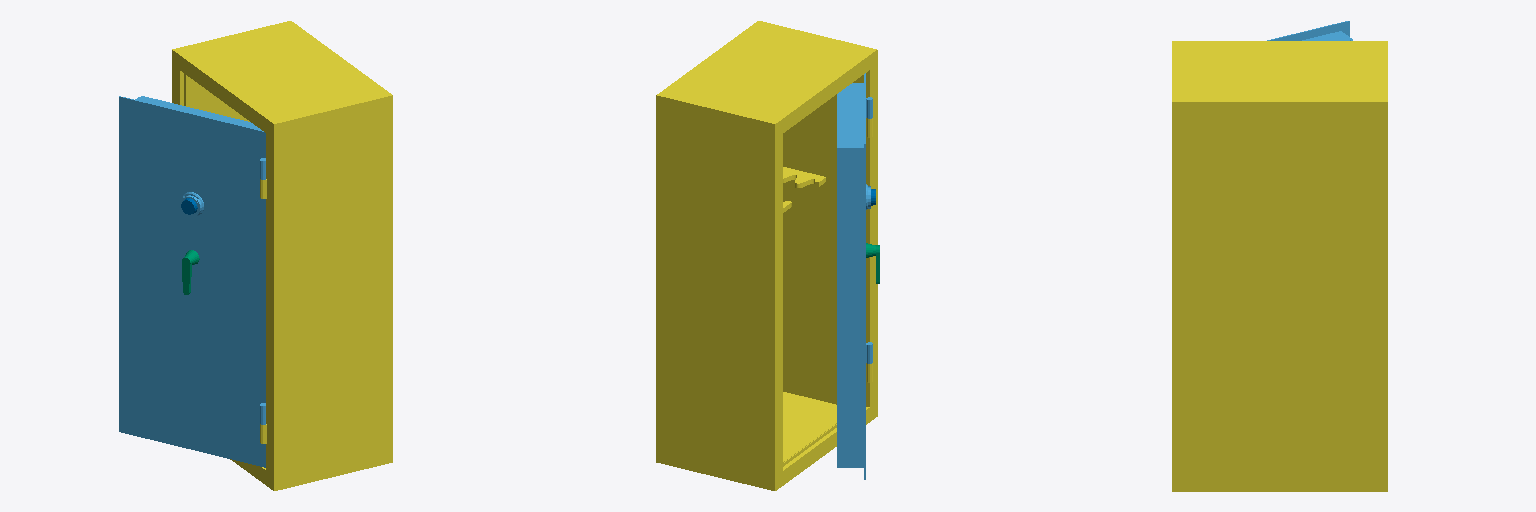
robot.urdf — partnet_a805e6a1651b06aaeb69804478f9c547:
<?xml version="1.0" ?>
<robot name="partnet_a805e6a1651b06aaeb69804478f9c547">
	<link name="base"/>
	<link name="link_0">
		<visual name="door-1">
			<origin xyz="-0.36400595678338493 -0.648501 -0.212485359986955"/>
			<geometry>
				<mesh filename="textured_objs/original-23.obj"/>
			</geometry>
		</visual>
		<visual name="door-1">
			<origin xyz="-0.36400595678338493 -0.648501 -0.212485359986955"/>
			<geometry>
				<mesh filename="textured_objs/original-22.obj"/>
			</geometry>
		</visual>
		<visual name="door-1">
			<origin xyz="-0.36400595678338493 -0.648501 -0.212485359986955"/>
			<geometry>
				<mesh filename="textured_objs/original-45.obj"/>
			</geometry>
		</visual>
		<visual name="door-1">
			<origin xyz="-0.36400595678338493 -0.648501 -0.212485359986955"/>
			<geometry>
				<mesh filename="textured_objs/original-43.obj"/>
			</geometry>
		</visual>
		<visual name="door-1">
			<origin xyz="-0.36400595678338493 -0.648501 -0.212485359986955"/>
			<geometry>
				<mesh filename="textured_objs/original-44.obj"/>
			</geometry>
		</visual>
		<visual name="door-1">
			<origin xyz="-0.36400595678338493 -0.648501 -0.212485359986955"/>
			<geometry>
				<mesh filename="textured_objs/original-37.obj"/>
			</geometry>
		</visual>
		<visual name="door-1">
			<origin xyz="-0.36400595678338493 -0.648501 -0.212485359986955"/>
			<geometry>
				<mesh filename="textured_objs/original-38.obj"/>
			</geometry>
		</visual>
		<visual name="door-1">
			<origin xyz="-0.36400595678338493 -0.648501 -0.212485359986955"/>
			<geometry>
				<mesh filename="textured_objs/original-11.obj"/>
			</geometry>
		</visual>
		<visual name="door-1">
			<origin xyz="-0.36400595678338493 -0.648501 -0.212485359986955"/>
			<geometry>
				<mesh filename="textured_objs/original-9.obj"/>
			</geometry>
		</visual>
		<collision>
			<origin xyz="-0.36400595678338493 -0.648501 -0.212485359986955"/>
			<geometry>
				<mesh filename="textured_objs/original-23.obj"/>
			</geometry>
		</collision>
		<collision>
			<origin xyz="-0.36400595678338493 -0.648501 -0.212485359986955"/>
			<geometry>
				<mesh filename="textured_objs/original-22.obj"/>
			</geometry>
		</collision>
		<collision>
			<origin xyz="-0.36400595678338493 -0.648501 -0.212485359986955"/>
			<geometry>
				<mesh filename="textured_objs/original-45.obj"/>
			</geometry>
		</collision>
		<collision>
			<origin xyz="-0.36400595678338493 -0.648501 -0.212485359986955"/>
			<geometry>
				<mesh filename="textured_objs/original-43.obj"/>
			</geometry>
		</collision>
		<collision>
			<origin xyz="-0.36400595678338493 -0.648501 -0.212485359986955"/>
			<geometry>
				<mesh filename="textured_objs/original-44.obj"/>
			</geometry>
		</collision>
		<collision>
			<origin xyz="-0.36400595678338493 -0.648501 -0.212485359986955"/>
			<geometry>
				<mesh filename="textured_objs/original-37.obj"/>
			</geometry>
		</collision>
		<collision>
			<origin xyz="-0.36400595678338493 -0.648501 -0.212485359986955"/>
			<geometry>
				<mesh filename="textured_objs/original-38.obj"/>
			</geometry>
		</collision>
		<collision>
			<origin xyz="-0.36400595678338493 -0.648501 -0.212485359986955"/>
			<geometry>
				<mesh filename="textured_objs/original-11.obj"/>
			</geometry>
		</collision>
		<collision>
			<origin xyz="-0.36400595678338493 -0.648501 -0.212485359986955"/>
			<geometry>
				<mesh filename="textured_objs/original-9.obj"/>
			</geometry>
		</collision>
	</link>
	<joint name="joint_0" type="revolute">
		<origin xyz="0.36400595678338493 0.648501 0.212485359986955"/>
		<axis xyz="0 1 0"/>
		<child link="link_0"/>
		<parent link="link_2"/>
		<limit lower="-0.5152211951887261" upper="2.5949555318651694"/>
	</joint>
	<link name="link_1">
		<visual name="handle-5">
			<origin xyz="-0.08313694413442765 -0.11743864096306886 -0.4204186448753276"/>
			<geometry>
				<mesh filename="textured_objs/original-3.obj"/>
			</geometry>
		</visual>
		<visual name="handle-5">
			<origin xyz="-0.08313694413442765 -0.11743864096306886 -0.4204186448753276"/>
			<geometry>
				<mesh filename="textured_objs/original-4.obj"/>
			</geometry>
		</visual>
		<collision>
			<origin xyz="-0.08313694413442765 -0.11743864096306886 -0.4204186448753276"/>
			<geometry>
				<mesh filename="textured_objs/original-3.obj"/>
			</geometry>
		</collision>
		<collision>
			<origin xyz="-0.08313694413442765 -0.11743864096306886 -0.4204186448753276"/>
			<geometry>
				<mesh filename="textured_objs/original-4.obj"/>
			</geometry>
		</collision>
	</link>
	<joint name="joint_1" type="fixed">
		<origin xyz="-0.28086901264895725 -0.5310623590369311 0.2079332848883726"/>
		<axis xyz="0.4999947735612932 2.942941588187545e-05 0.8660284207491696"/>
		<child link="link_1"/>
		<parent link="link_0"/>
	</joint>
	<link name="link_2">
		<visual name="base_body-9">
			<origin xyz="0 0 0"/>
			<geometry>
				<mesh filename="textured_objs/original-29.obj"/>
			</geometry>
		</visual>
		<visual name="base_body-9">
			<origin xyz="0 0 0"/>
			<geometry>
				<mesh filename="textured_objs/original-36.obj"/>
			</geometry>
		</visual>
		<visual name="base_body-9">
			<origin xyz="0 0 0"/>
			<geometry>
				<mesh filename="textured_objs/original-28.obj"/>
			</geometry>
		</visual>
		<visual name="base_body-9">
			<origin xyz="0 0 0"/>
			<geometry>
				<mesh filename="textured_objs/original-33.obj"/>
			</geometry>
		</visual>
		<visual name="base_body-9">
			<origin xyz="0 0 0"/>
			<geometry>
				<mesh filename="textured_objs/original-35.obj"/>
			</geometry>
		</visual>
		<visual name="base_body-9">
			<origin xyz="0 0 0"/>
			<geometry>
				<mesh filename="textured_objs/original-49.obj"/>
			</geometry>
		</visual>
		<visual name="base_body-9">
			<origin xyz="0 0 0"/>
			<geometry>
				<mesh filename="textured_objs/original-50.obj"/>
			</geometry>
		</visual>
		<visual name="base_body-9">
			<origin xyz="0 0 0"/>
			<geometry>
				<mesh filename="textured_objs/original-31.obj"/>
			</geometry>
		</visual>
		<visual name="base_body-9">
			<origin xyz="0 0 0"/>
			<geometry>
				<mesh filename="textured_objs/original-48.obj"/>
			</geometry>
		</visual>
		<visual name="base_body-9">
			<origin xyz="0 0 0"/>
			<geometry>
				<mesh filename="textured_objs/original-34.obj"/>
			</geometry>
		</visual>
		<visual name="base_body-9">
			<origin xyz="0 0 0"/>
			<geometry>
				<mesh filename="textured_objs/original-25.obj"/>
			</geometry>
		</visual>
		<visual name="base_body-9">
			<origin xyz="0 0 0"/>
			<geometry>
				<mesh filename="textured_objs/original-32.obj"/>
			</geometry>
		</visual>
		<visual name="base_body-9">
			<origin xyz="0 0 0"/>
			<geometry>
				<mesh filename="textured_objs/original-47.obj"/>
			</geometry>
		</visual>
		<visual name="base_body-9">
			<origin xyz="0 0 0"/>
			<geometry>
				<mesh filename="textured_objs/original-46.obj"/>
			</geometry>
		</visual>
		<collision>
			<origin xyz="0 0 0"/>
			<geometry>
				<mesh filename="textured_objs/original-29.obj"/>
			</geometry>
		</collision>
		<collision>
			<origin xyz="0 0 0"/>
			<geometry>
				<mesh filename="textured_objs/original-36.obj"/>
			</geometry>
		</collision>
		<collision>
			<origin xyz="0 0 0"/>
			<geometry>
				<mesh filename="textured_objs/original-28.obj"/>
			</geometry>
		</collision>
		<collision>
			<origin xyz="0 0 0"/>
			<geometry>
				<mesh filename="textured_objs/original-33.obj"/>
			</geometry>
		</collision>
		<collision>
			<origin xyz="0 0 0"/>
			<geometry>
				<mesh filename="textured_objs/original-35.obj"/>
			</geometry>
		</collision>
		<collision>
			<origin xyz="0 0 0"/>
			<geometry>
				<mesh filename="textured_objs/original-49.obj"/>
			</geometry>
		</collision>
		<collision>
			<origin xyz="0 0 0"/>
			<geometry>
				<mesh filename="textured_objs/original-50.obj"/>
			</geometry>
		</collision>
		<collision>
			<origin xyz="0 0 0"/>
			<geometry>
				<mesh filename="textured_objs/original-31.obj"/>
			</geometry>
		</collision>
		<collision>
			<origin xyz="0 0 0"/>
			<geometry>
				<mesh filename="textured_objs/original-48.obj"/>
			</geometry>
		</collision>
		<collision>
			<origin xyz="0 0 0"/>
			<geometry>
				<mesh filename="textured_objs/original-34.obj"/>
			</geometry>
		</collision>
		<collision>
			<origin xyz="0 0 0"/>
			<geometry>
				<mesh filename="textured_objs/original-25.obj"/>
			</geometry>
		</collision>
		<collision>
			<origin xyz="0 0 0"/>
			<geometry>
				<mesh filename="textured_objs/original-32.obj"/>
			</geometry>
		</collision>
		<collision>
			<origin xyz="0 0 0"/>
			<geometry>
				<mesh filename="textured_objs/original-47.obj"/>
			</geometry>
		</collision>
		<collision>
			<origin xyz="0 0 0"/>
			<geometry>
				<mesh filename="textured_objs/original-46.obj"/>
			</geometry>
		</collision>
	</link>
	<joint name="joint_2" type="fixed">
		<origin rpy="1.570796326794897 0 -1.570796326794897" xyz="0 0 0"/>
		<child link="link_2"/>
		<parent link="base"/>
	</joint>
	<link name="link_3">
		<visual name="switch-6">
			<origin xyz="0.11887426709008031 -0.3592191186084054 -0.06864868929159593"/>
			<geometry>
				<mesh filename="textured_objs/original-42.obj"/>
			</geometry>
		</visual>
		<visual name="switch-6">
			<origin xyz="0.11887426709008031 -0.3592191186084054 -0.06864868929159593"/>
			<geometry>
				<mesh filename="textured_objs/original-41.obj"/>
			</geometry>
		</visual>
		<visual name="outlier-7">
			<origin xyz="0.11887426709008031 -0.3592191186084054 -0.06864868929159593"/>
			<geometry>
				<mesh filename="textured_objs/original-20.obj"/>
			</geometry>
		</visual>
		<visual name="outlier-8">
			<origin xyz="0.11887426709008031 -0.3592191186084054 -0.06864868929159593"/>
			<geometry>
				<mesh filename="textured_objs/original-40.obj"/>
			</geometry>
		</visual>
		<visual name="outlier-8">
			<origin xyz="0.11887426709008031 -0.3592191186084054 -0.06864868929159593"/>
			<geometry>
				<mesh filename="textured_objs/original-12.obj"/>
			</geometry>
		</visual>
		<visual name="outlier-8">
			<origin xyz="0.11887426709008031 -0.3592191186084054 -0.06864868929159593"/>
			<geometry>
				<mesh filename="textured_objs/original-13.obj"/>
			</geometry>
		</visual>
		<visual name="outlier-8">
			<origin xyz="0.11887426709008031 -0.3592191186084054 -0.06864868929159593"/>
			<geometry>
				<mesh filename="textured_objs/original-19.obj"/>
			</geometry>
		</visual>
		<visual name="outlier-8">
			<origin xyz="0.11887426709008031 -0.3592191186084054 -0.06864868929159593"/>
			<geometry>
				<mesh filename="textured_objs/original-16.obj"/>
			</geometry>
		</visual>
		<visual name="outlier-8">
			<origin xyz="0.11887426709008031 -0.3592191186084054 -0.06864868929159593"/>
			<geometry>
				<mesh filename="textured_objs/original-17.obj"/>
			</geometry>
		</visual>
		<visual name="outlier-8">
			<origin xyz="0.11887426709008031 -0.3592191186084054 -0.06864868929159593"/>
			<geometry>
				<mesh filename="textured_objs/original-15.obj"/>
			</geometry>
		</visual>
		<visual name="outlier-8">
			<origin xyz="0.11887426709008031 -0.3592191186084054 -0.06864868929159593"/>
			<geometry>
				<mesh filename="textured_objs/original-14.obj"/>
			</geometry>
		</visual>
		<visual name="outlier-8">
			<origin xyz="0.11887426709008031 -0.3592191186084054 -0.06864868929159593"/>
			<geometry>
				<mesh filename="textured_objs/original-18.obj"/>
			</geometry>
		</visual>
		<visual name="outlier-8">
			<origin xyz="0.11887426709008031 -0.3592191186084054 -0.06864868929159593"/>
			<geometry>
				<mesh filename="textured_objs/original-39.obj"/>
			</geometry>
		</visual>
		<collision>
			<origin xyz="0.11887426709008031 -0.3592191186084054 -0.06864868929159593"/>
			<geometry>
				<mesh filename="textured_objs/original-42.obj"/>
			</geometry>
		</collision>
		<collision>
			<origin xyz="0.11887426709008031 -0.3592191186084054 -0.06864868929159593"/>
			<geometry>
				<mesh filename="textured_objs/original-41.obj"/>
			</geometry>
		</collision>
		<collision>
			<origin xyz="0.11887426709008031 -0.3592191186084054 -0.06864868929159593"/>
			<geometry>
				<mesh filename="textured_objs/original-20.obj"/>
			</geometry>
		</collision>
		<collision>
			<origin xyz="0.11887426709008031 -0.3592191186084054 -0.06864868929159593"/>
			<geometry>
				<mesh filename="textured_objs/original-40.obj"/>
			</geometry>
		</collision>
		<collision>
			<origin xyz="0.11887426709008031 -0.3592191186084054 -0.06864868929159593"/>
			<geometry>
				<mesh filename="textured_objs/original-12.obj"/>
			</geometry>
		</collision>
		<collision>
			<origin xyz="0.11887426709008031 -0.3592191186084054 -0.06864868929159593"/>
			<geometry>
				<mesh filename="textured_objs/original-13.obj"/>
			</geometry>
		</collision>
		<collision>
			<origin xyz="0.11887426709008031 -0.3592191186084054 -0.06864868929159593"/>
			<geometry>
				<mesh filename="textured_objs/original-19.obj"/>
			</geometry>
		</collision>
		<collision>
			<origin xyz="0.11887426709008031 -0.3592191186084054 -0.06864868929159593"/>
			<geometry>
				<mesh filename="textured_objs/original-16.obj"/>
			</geometry>
		</collision>
		<collision>
			<origin xyz="0.11887426709008031 -0.3592191186084054 -0.06864868929159593"/>
			<geometry>
				<mesh filename="textured_objs/original-17.obj"/>
			</geometry>
		</collision>
		<collision>
			<origin xyz="0.11887426709008031 -0.3592191186084054 -0.06864868929159593"/>
			<geometry>
				<mesh filename="textured_objs/original-15.obj"/>
			</geometry>
		</collision>
		<collision>
			<origin xyz="0.11887426709008031 -0.3592191186084054 -0.06864868929159593"/>
			<geometry>
				<mesh filename="textured_objs/original-14.obj"/>
			</geometry>
		</collision>
		<collision>
			<origin xyz="0.11887426709008031 -0.3592191186084054 -0.06864868929159593"/>
			<geometry>
				<mesh filename="textured_objs/original-18.obj"/>
			</geometry>
		</collision>
		<collision>
			<origin xyz="0.11887426709008031 -0.3592191186084054 -0.06864868929159593"/>
			<geometry>
				<mesh filename="textured_objs/original-39.obj"/>
			</geometry>
		</collision>
	</link>
	<joint name="joint_3" type="fixed">
		<origin xyz="-0.48288022387346524 -0.2892818813915946 -0.14383667069535908"/>
		<axis xyz="-0.5000030207161373 3.867898438007658e-05 -0.866023658902385"/>
		<child link="link_3"/>
		<parent link="link_0"/>
	</joint>
</robot>

--- What the picture shows (computed from the rendered views, not written in the file) ---
3 views of the same robot in one strip: view 1: azimuth 30°, elevation 25°; view 2: azimuth 150°, elevation 25°; view 3: azimuth 270°, elevation 25° (orthographic).
Robot: partnet_a805e6a1651b06aaeb69804478f9c547 — 5 links, 4 joints (1 revolute, 3 fixed); root link base; default pose: all joints at 0.
Links seen in each view (by area): view 1: link_2, link_0; view 2: link_2, link_0; view 3: link_2, link_0.
Boxes of the visible links, bbox=[...] form: link_2: bbox=[172, 21, 392, 490]; link_0: bbox=[119, 96, 265, 467]; link_2: bbox=[656, 21, 877, 490]; link_0: bbox=[837, 73, 872, 479]; link_2: bbox=[1172, 41, 1387, 491]; link_0: bbox=[1267, 21, 1352, 40].
Bounding box of the posed robot: 0.9106 × 0.8445 × 1.67 m (x, y, z).
Meshes: 38 distinct files referenced, 38 mesh visuals loaded (38 OBJ).
